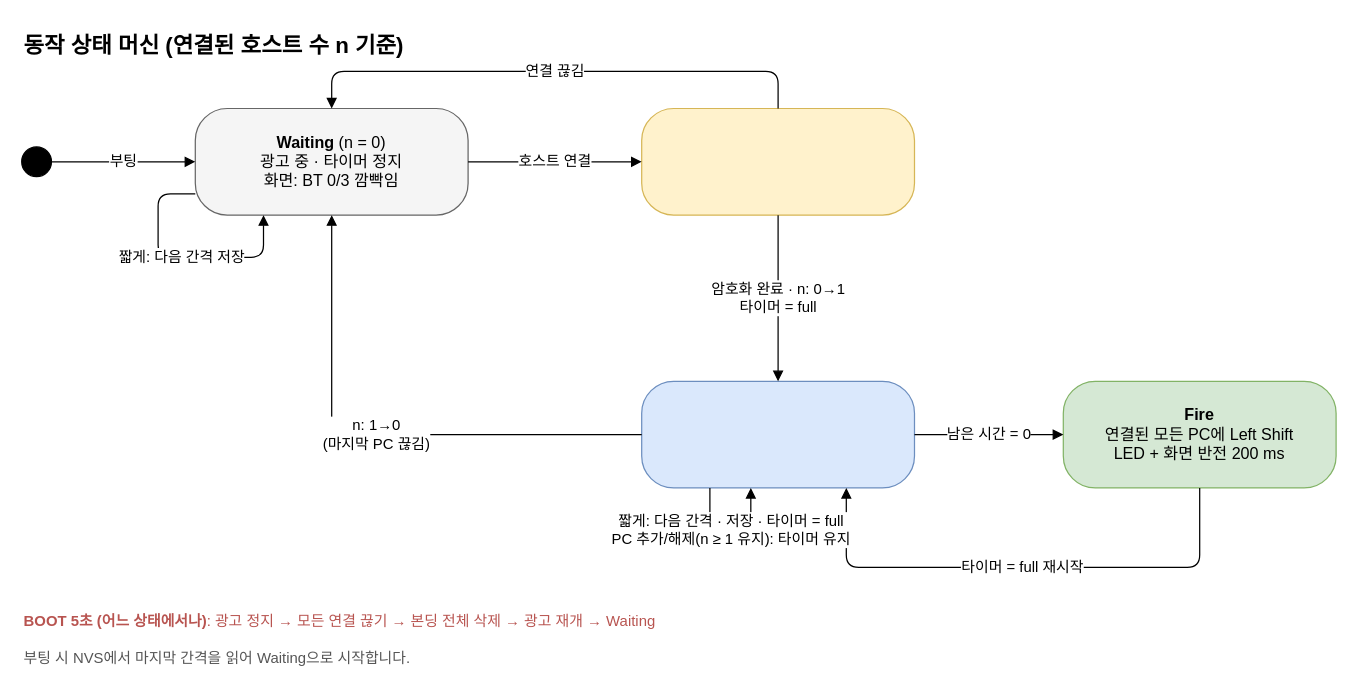
Image size: 1358x692. Some labels were removed from this diagram. The shapes that lost their labels are listed below. From the top down, each one's box as (x1, y1, x2, y2) in pixels, then its label:
(640, 107, 914, 215): Linked GAP 연결됨 페어링·암호화 진행
(640, 380, 914, 488): Counting (n ≥ 1) 타이머 진행, n < 3이면 광고 유지 화면: BT n/3 · M:SS
